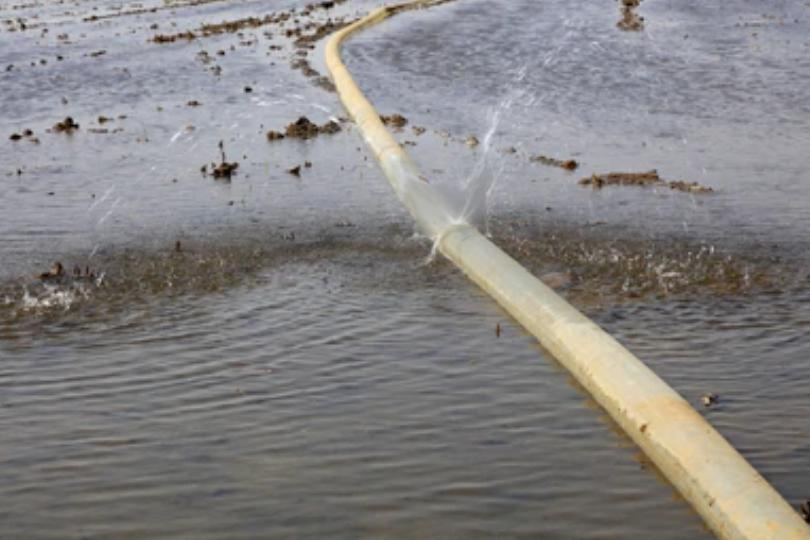pipe burst: (240, 16, 581, 244)
